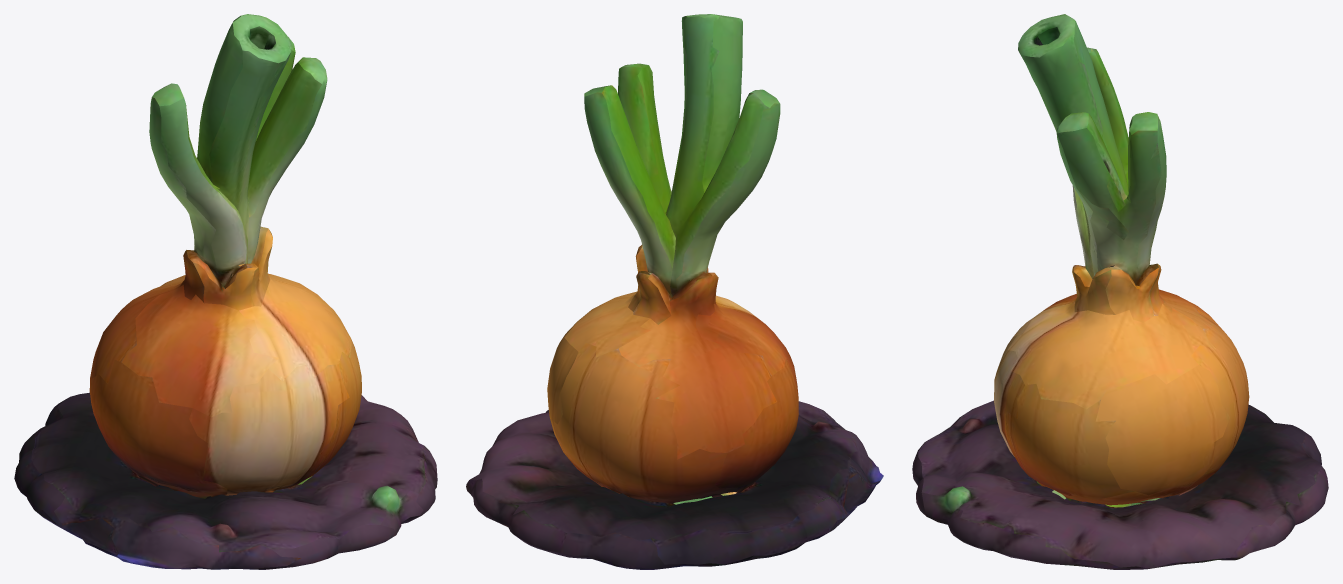
The model's file is crop_onion.glb.
The picture shows the model from 3 angles, left to right: view 1: azimuth 30°, elevation 25°; view 2: azimuth 150°, elevation 25°; view 3: azimuth 270°, elevation 25°; orthographic projection. The views are drawn at different scales.
Visible parts, largest first — view 1: crop_onion_s15; view 2: crop_onion_s15; view 3: crop_onion_s15.
Part boxes in pixels (x1,y1,x2,y2): crop_onion_s15: (14, 14, 437, 569); crop_onion_s15: (466, 14, 883, 569); crop_onion_s15: (912, 14, 1328, 569).
Size of the model in its own units: 0.7711 by 1 by 0.808.
1 material, 1 textured.
